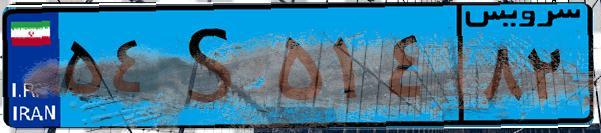1: (330, 28, 385, 110)
2: (525, 38, 570, 115)
4: (385, 28, 445, 110), (110, 28, 158, 98)
5: (270, 28, 330, 110), (57, 26, 110, 100)
8: (475, 38, 525, 113)
S: (158, 12, 270, 120)
